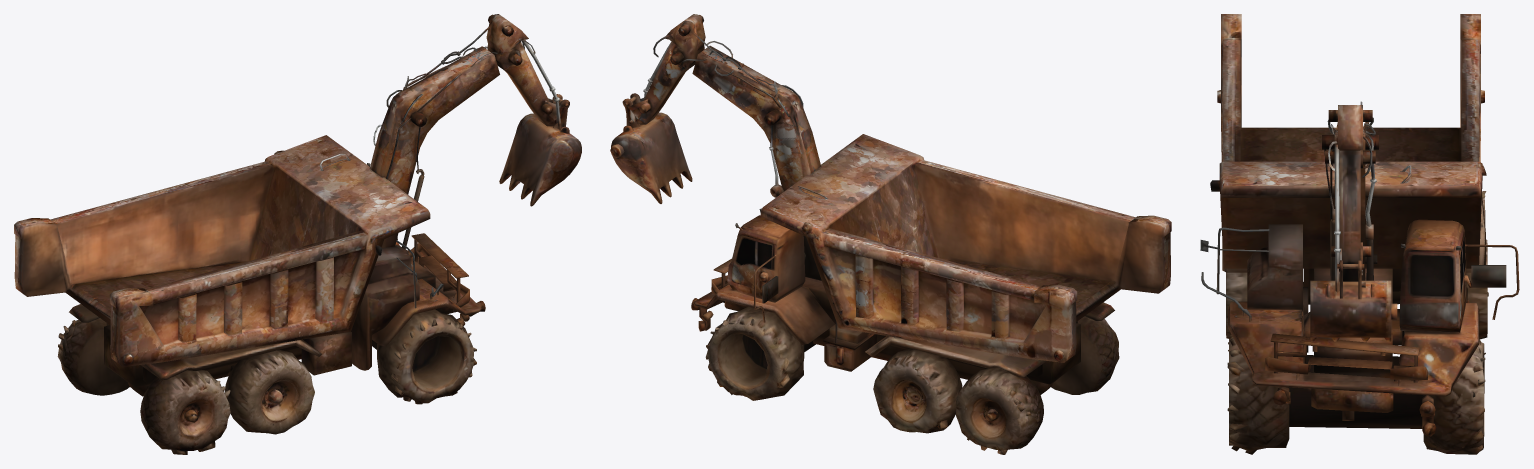
3 views of the same model, side by side, from view 1: azimuth 30°, elevation 25°; view 2: azimuth 150°, elevation 25°; view 3: azimuth 270°, elevation 25° (orthographic). The views are drawn at different scales.
Parts seen in each view (by area): view 1: tripo_node_9fe71668-ea0a-4c45-9114-573c737b44f6; view 2: tripo_node_9fe71668-ea0a-4c45-9114-573c737b44f6; view 3: tripo_node_9fe71668-ea0a-4c45-9114-573c737b44f6.
Boxes of the visible parts, bbox=[...] form: tripo_node_9fe71668-ea0a-4c45-9114-573c737b44f6: bbox=[14, 14, 581, 454]; tripo_node_9fe71668-ea0a-4c45-9114-573c737b44f6: bbox=[610, 14, 1171, 454]; tripo_node_9fe71668-ea0a-4c45-9114-573c737b44f6: bbox=[1200, 14, 1519, 454].
Size of the model in its own units: 0.9995 by 0.6206 by 0.4419.
Materials: 1 (1 with a texture image).
